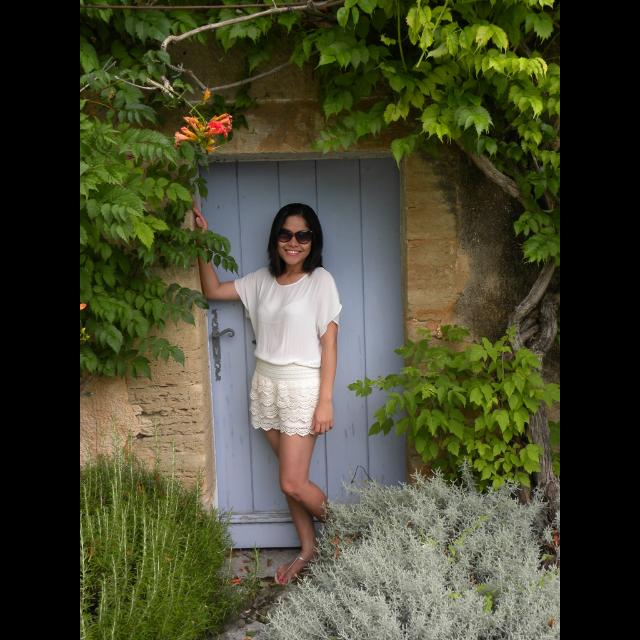Flower: (174, 112, 232, 144)
